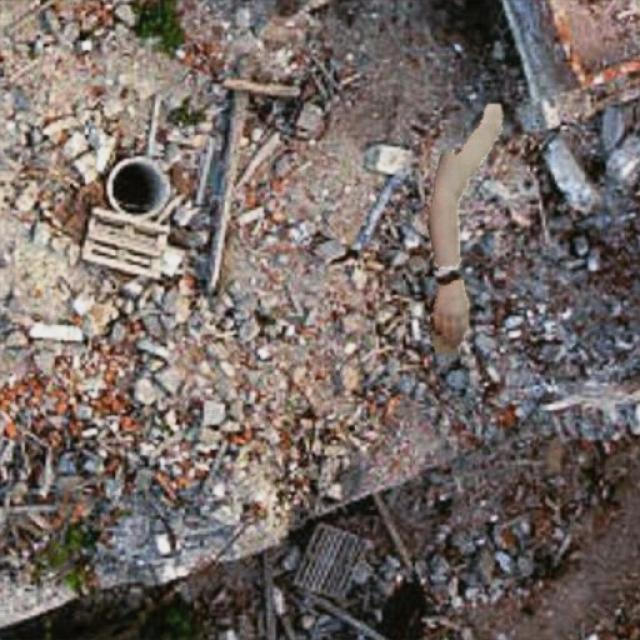Person in Rubble: (428, 104, 502, 352)
